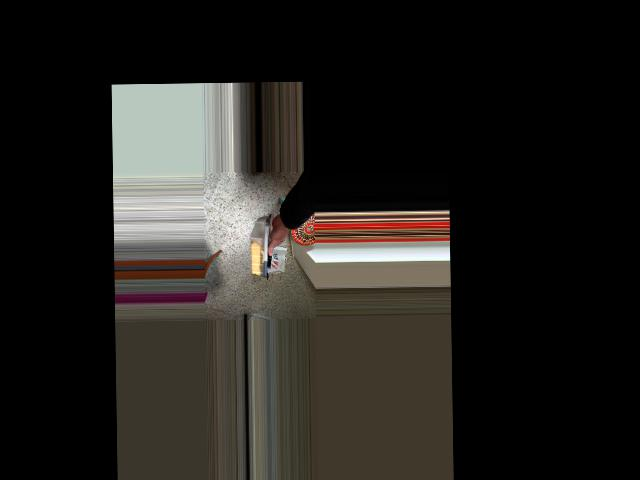cheese: (233, 203, 301, 273)
